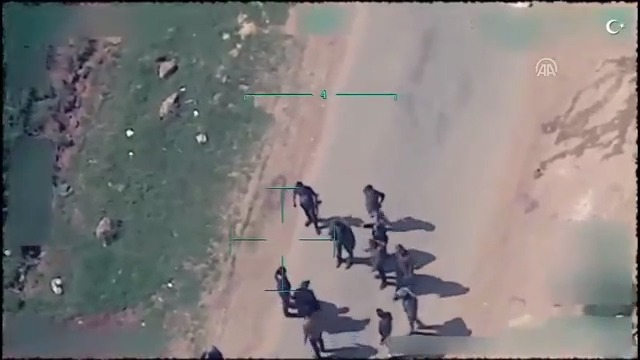insan: (295, 300, 336, 359), (286, 178, 323, 234), (394, 281, 428, 341), (331, 216, 358, 272), (270, 263, 296, 317), (362, 181, 390, 225), (375, 302, 396, 358), (391, 243, 414, 283)
